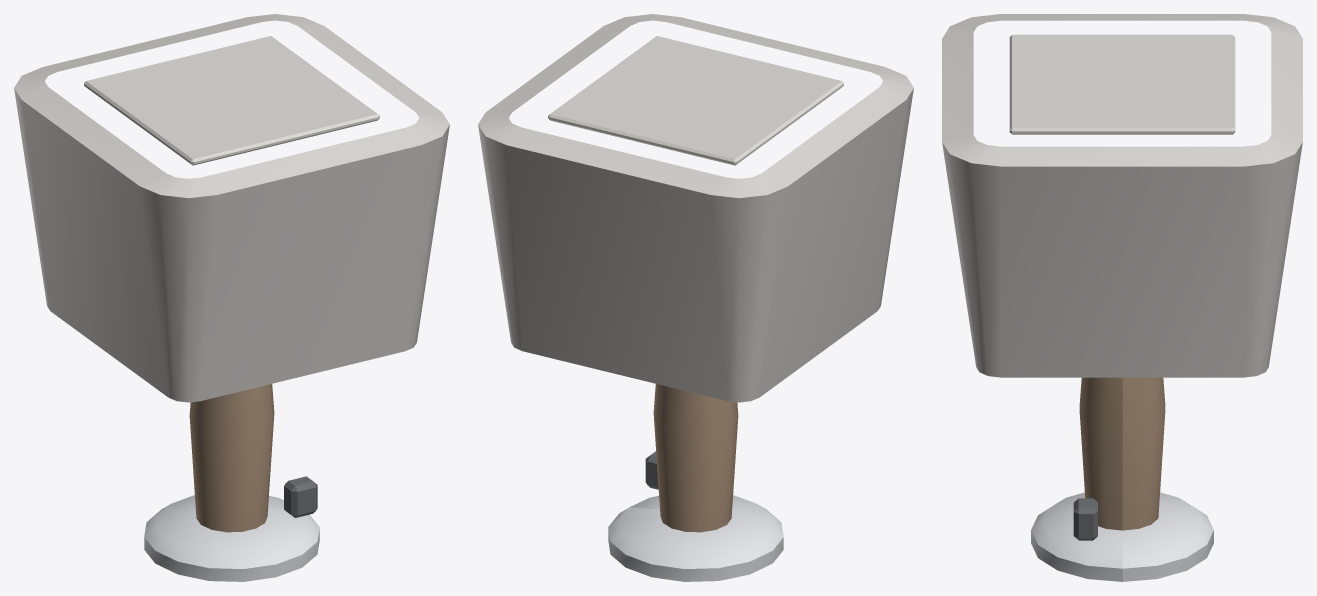
3 views of the same model, side by side, from view 1: azimuth 30°, elevation 25°; view 2: azimuth 150°, elevation 25°; view 3: azimuth 270°, elevation 25° (orthographic). The views are drawn at different scales.
Parts seen in each view (by area): view 1: table-lamp-square-shade; view 2: table-lamp-square-shade; view 3: table-lamp-square-shade.
Part boxes in pixels (bbox=[...]): table-lamp-square-shade: bbox=[14, 14, 449, 581]; table-lamp-square-shade: bbox=[478, 14, 913, 581]; table-lamp-square-shade: bbox=[942, 14, 1302, 581].
Size of the model in its own units: 0.296 by 0.418 by 0.296.
